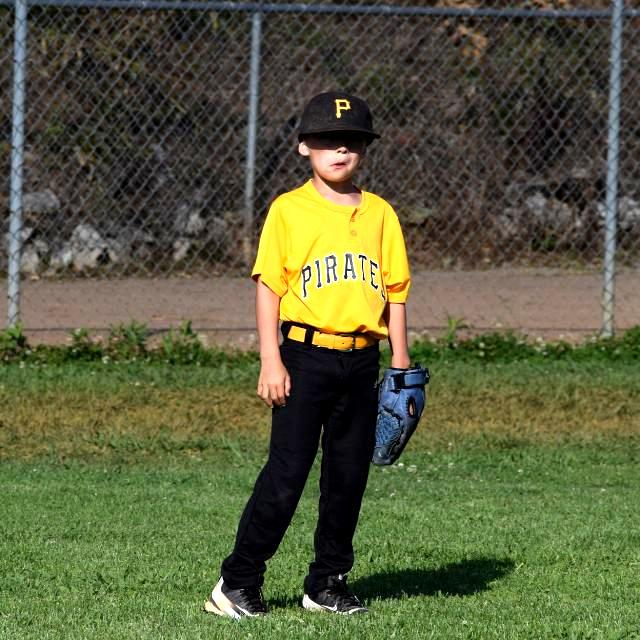no_hard_hat: (298, 92, 380, 142)
person: (233, 92, 410, 614)
